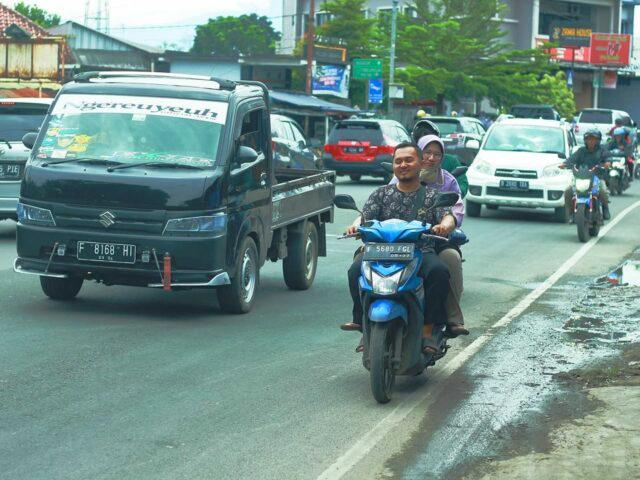helm: (583, 129, 605, 154)
motor: (340, 209, 471, 410), (561, 159, 615, 245)
non-helm: (392, 142, 424, 186), (415, 136, 448, 175)
